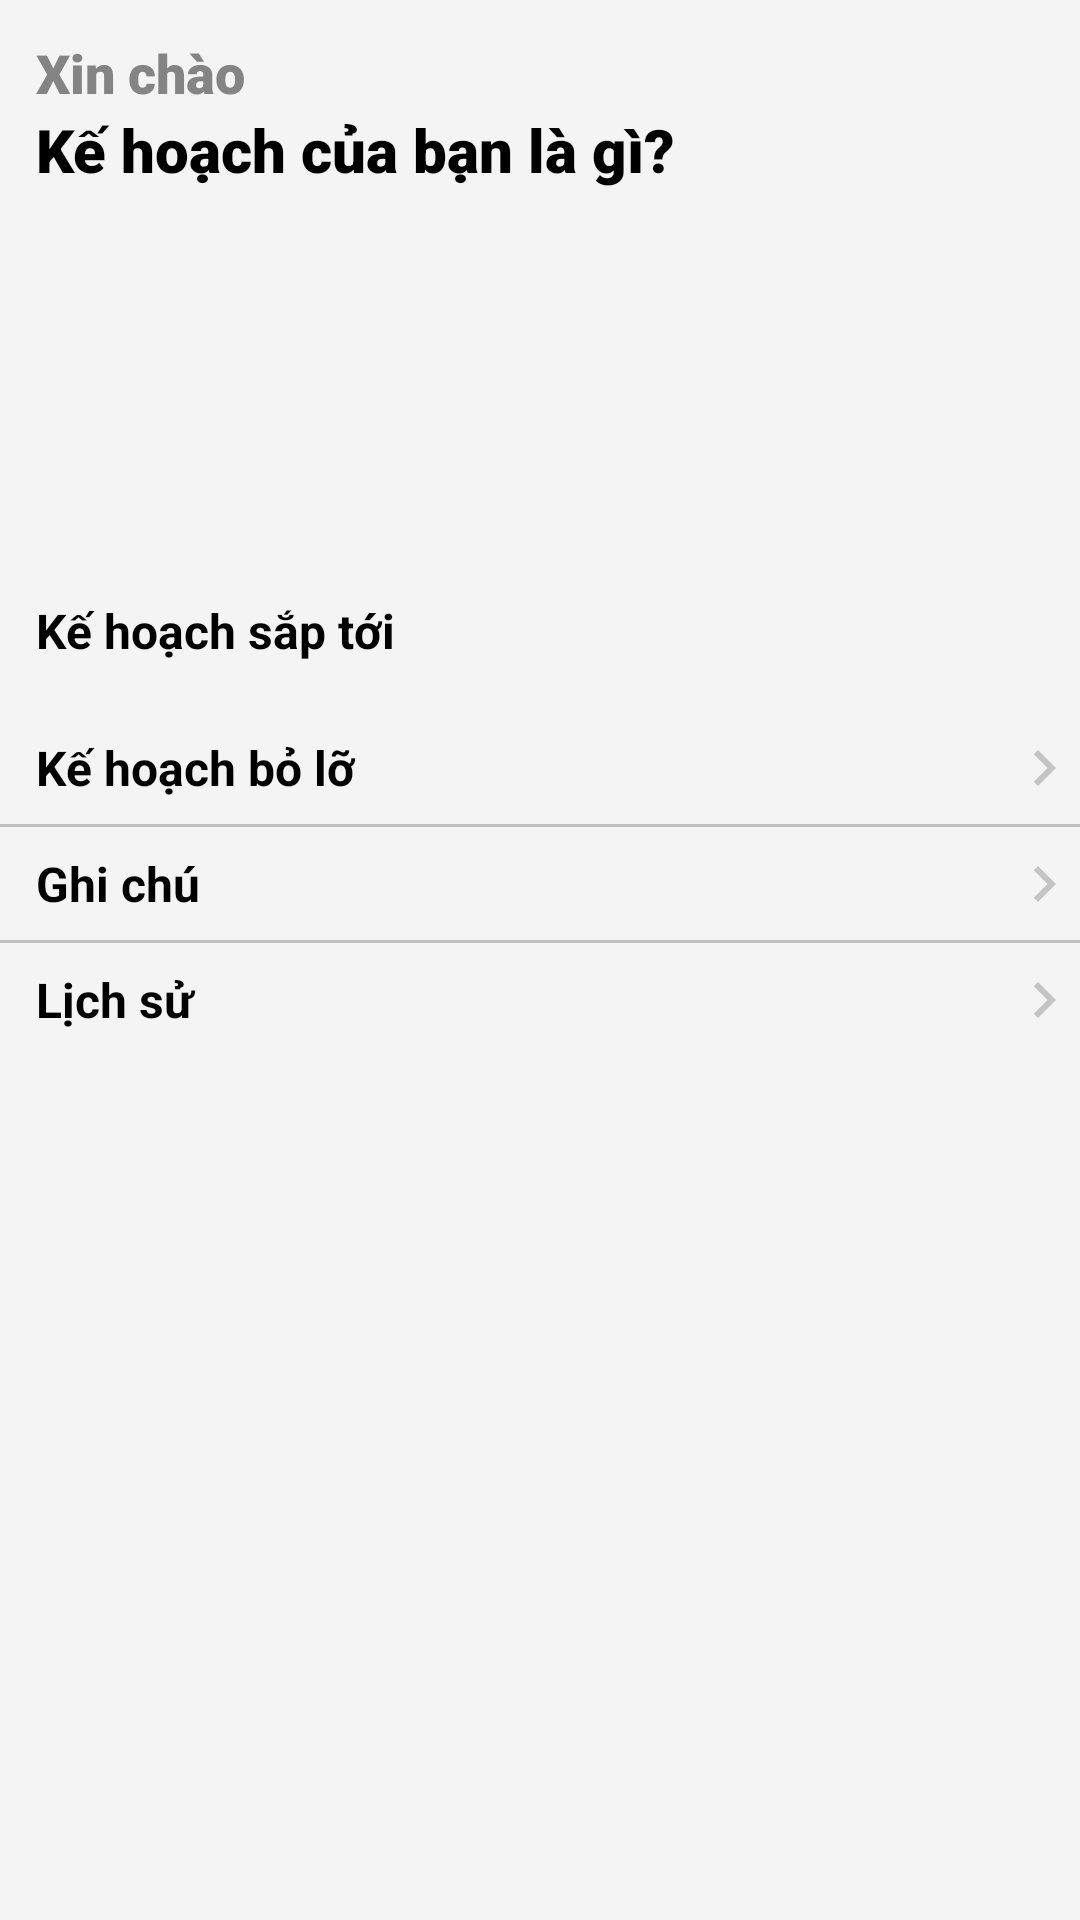

Icon bounding boxes for this 1080px x 1920px phone screenshot, format (x1, y1, x2, y2):
right: (1034, 751, 1055, 786), (1034, 867, 1055, 902), (1034, 983, 1055, 1018)
